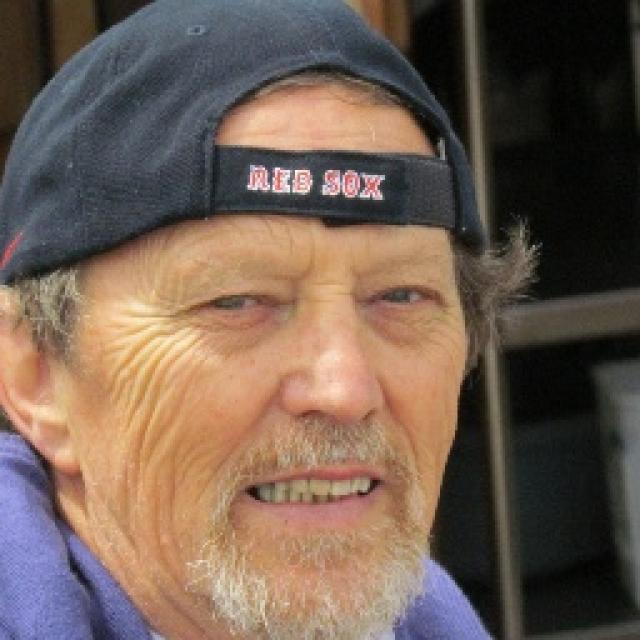earlobe: (25, 405, 83, 481)
eye: (177, 283, 287, 321), (363, 278, 448, 315)
nose: (277, 406, 384, 460)
wholeear: (0, 285, 84, 481)
